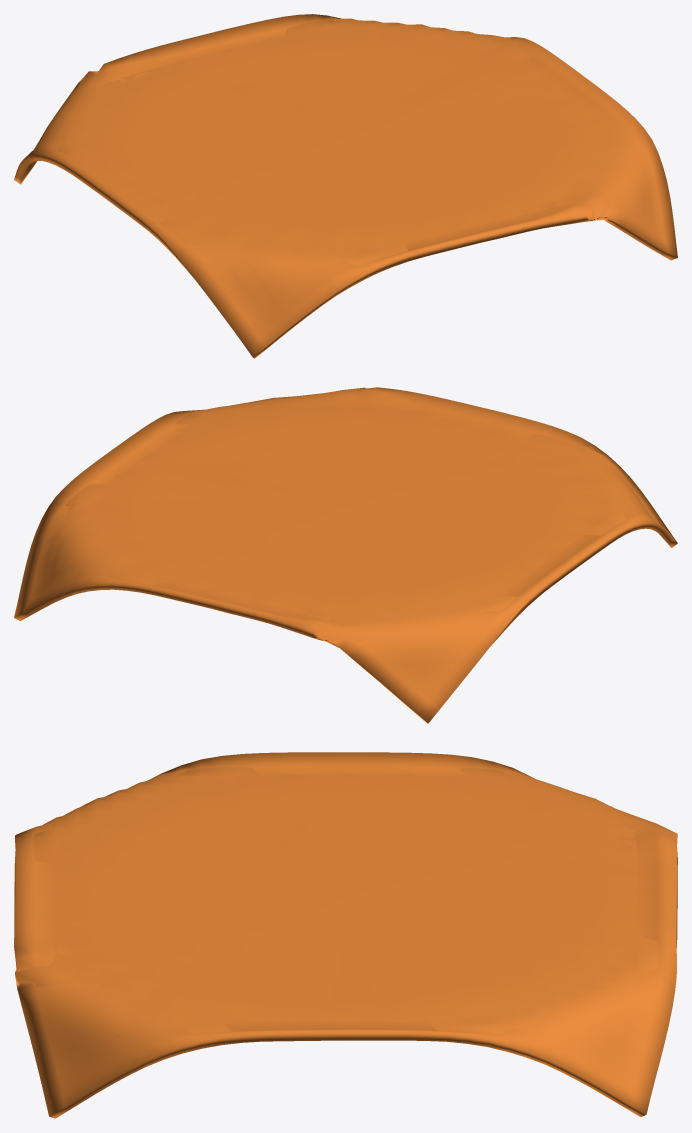
File: melted-cheese-for-steak-model.fbx
3 views of the same model, one above another, from view 1: azimuth 30°, elevation 25°; view 2: azimuth 150°, elevation 25°; view 3: azimuth 270°, elevation 25° (orthographic). The views are drawn at different scales.
Visible parts, largest first — view 1: Plane; view 2: Plane; view 3: Plane.
Boxes of the visible parts, x1,y1,x2,y2 form: Plane: (14, 14, 677, 358); Plane: (14, 387, 677, 723); Plane: (14, 752, 677, 1118).
Bounding box in the file's own units: 184 × 32.79 × 184.
